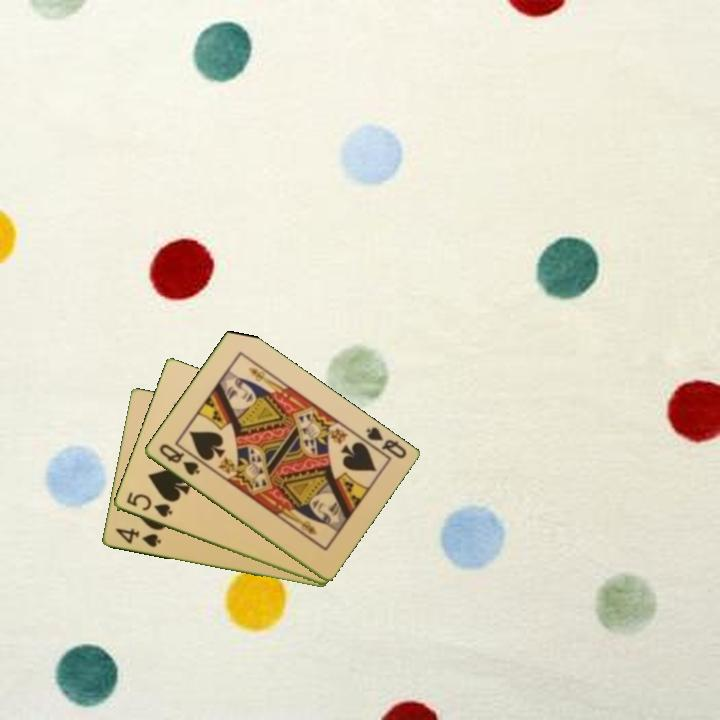4s: (112, 525, 163, 550)
5s: (122, 489, 175, 520)
Qs: (356, 423, 409, 462), (155, 440, 203, 479)
